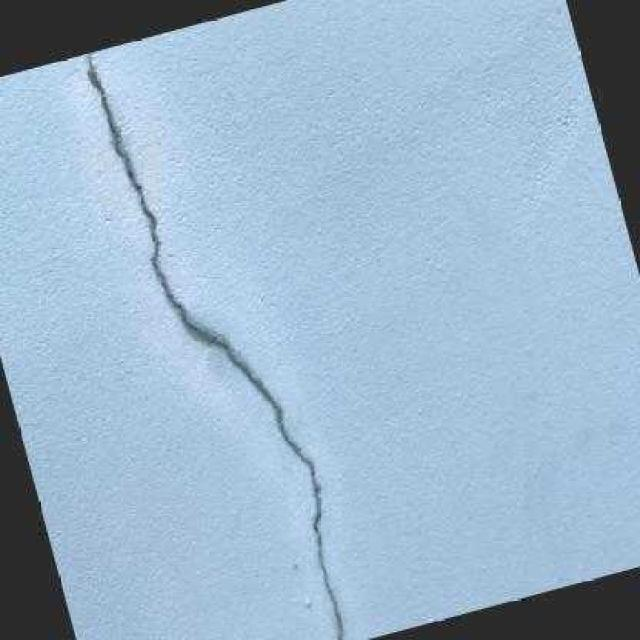D00: (83, 50, 342, 640)
